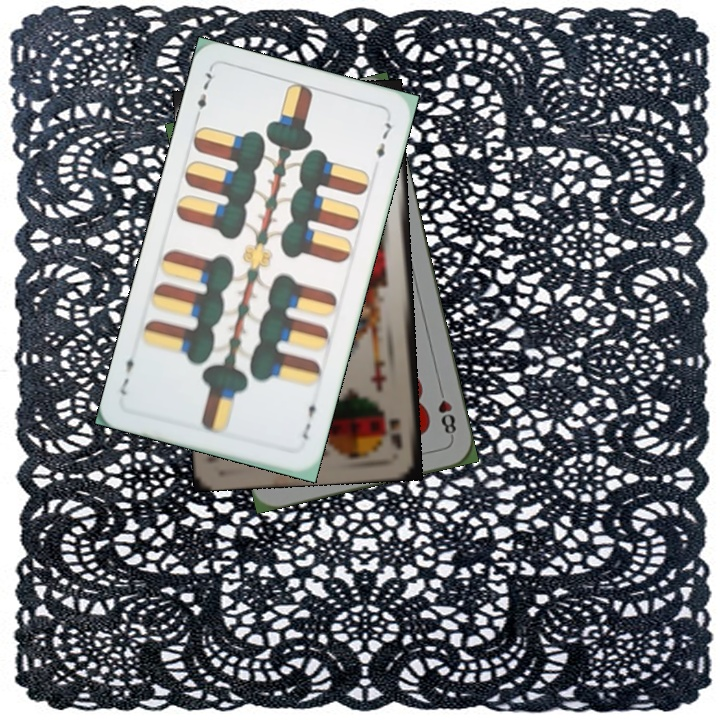E7: (191, 65, 218, 123), (298, 395, 321, 442)
H8: (434, 382, 459, 441)
SK: (385, 415, 405, 452)
